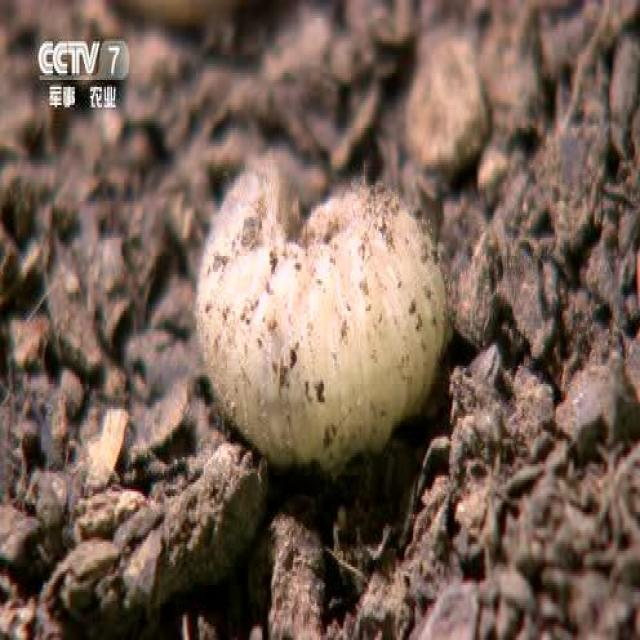Grub-Adult-: (188, 124, 452, 466)
